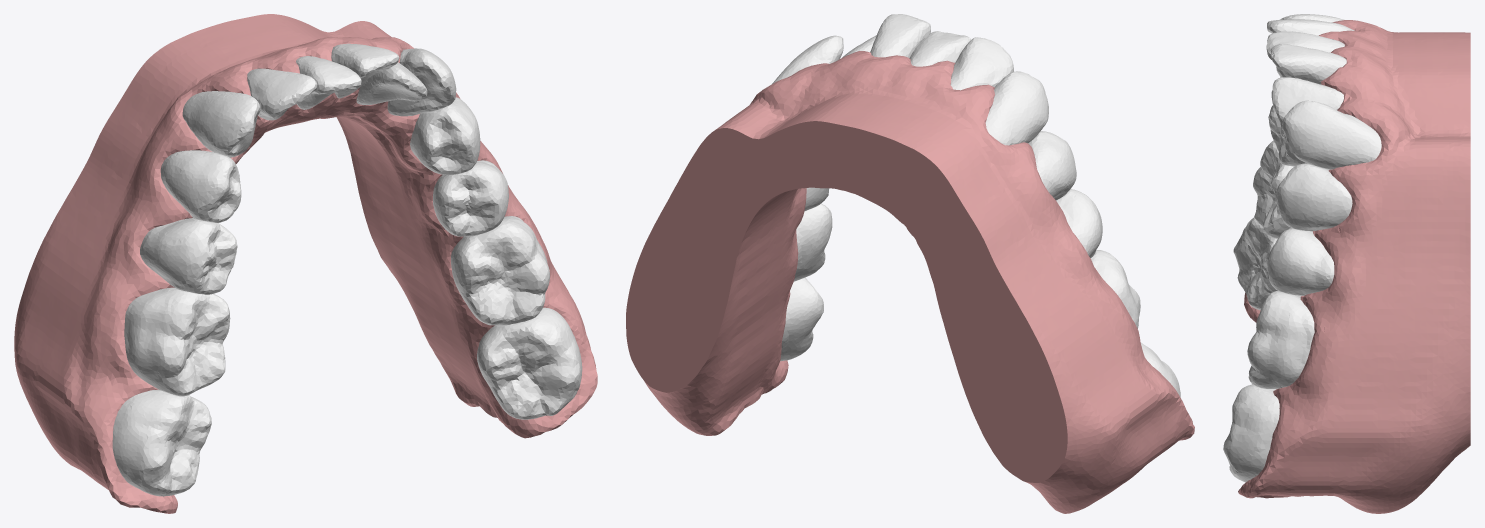
The picture shows the model from 3 angles, left to right: view 1: azimuth 30°, elevation 25°; view 2: azimuth 150°, elevation 25°; view 3: azimuth 270°, elevation 25°; orthographic projection. The views are drawn at different scales.
Parts seen in each view (by area): view 1: mesh0, mesh1; view 2: mesh0, mesh1; view 3: mesh0, mesh1.
Part boxes in pixels (<box>): mesh0: <box>14,14,597,513</box>; mesh1: <box>112,43,582,496</box>; mesh0: <box>626,51,1194,513</box>; mesh1: <box>771,14,1180,397</box>; mesh0: <box>1238,20,1470,513</box>; mesh1: <box>1223,14,1381,482</box>.
Bounding box in the file's own units: 62.92 × 51.01 × 28.94.
